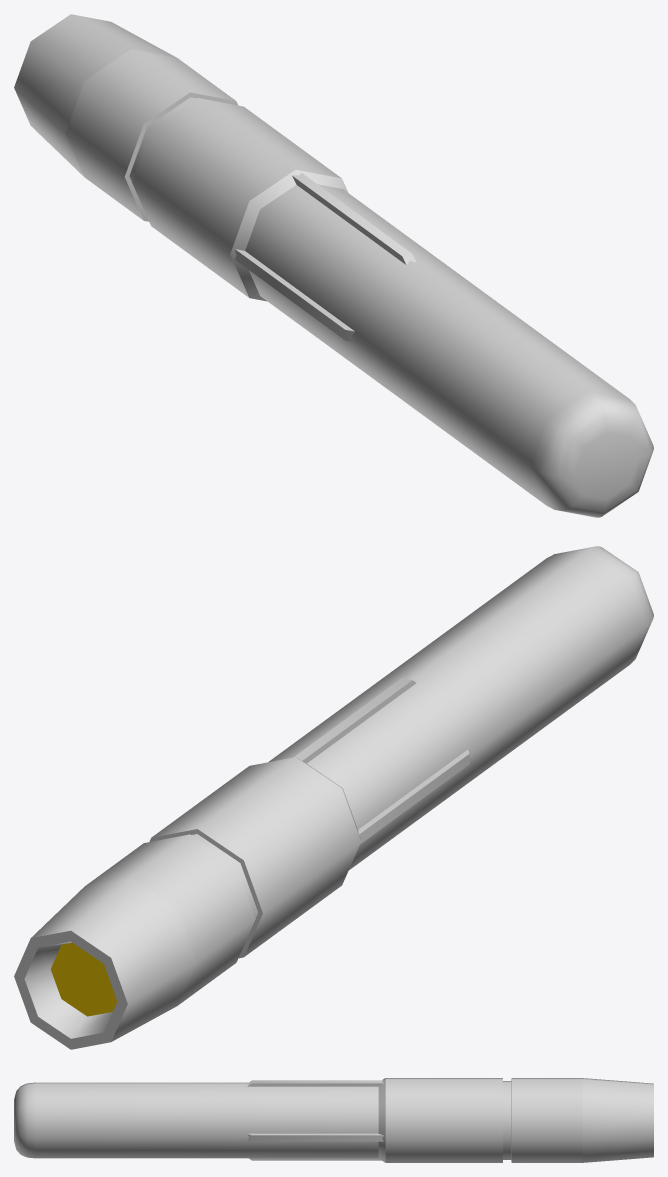
The model's file is VGT-4 LOD1.fbx.
3 renders of one model, top to bottom at view 1: azimuth 30°, elevation 25°; view 2: azimuth 150°, elevation 25°; view 3: azimuth 270°, elevation 25°, orthographic. The views are drawn at different scales.
Visible parts, largest first — view 1: VGT-4; view 2: VGT-4; view 3: VGT-4.
Boxes of the visible parts, <box> form: VGT-4: <box>14,14,653,517</box>; VGT-4: <box>14,546,653,1049</box>; VGT-4: <box>14,1078,653,1162</box>.
Size of the model in its own units: 15.29 by 108 by 15.29.
